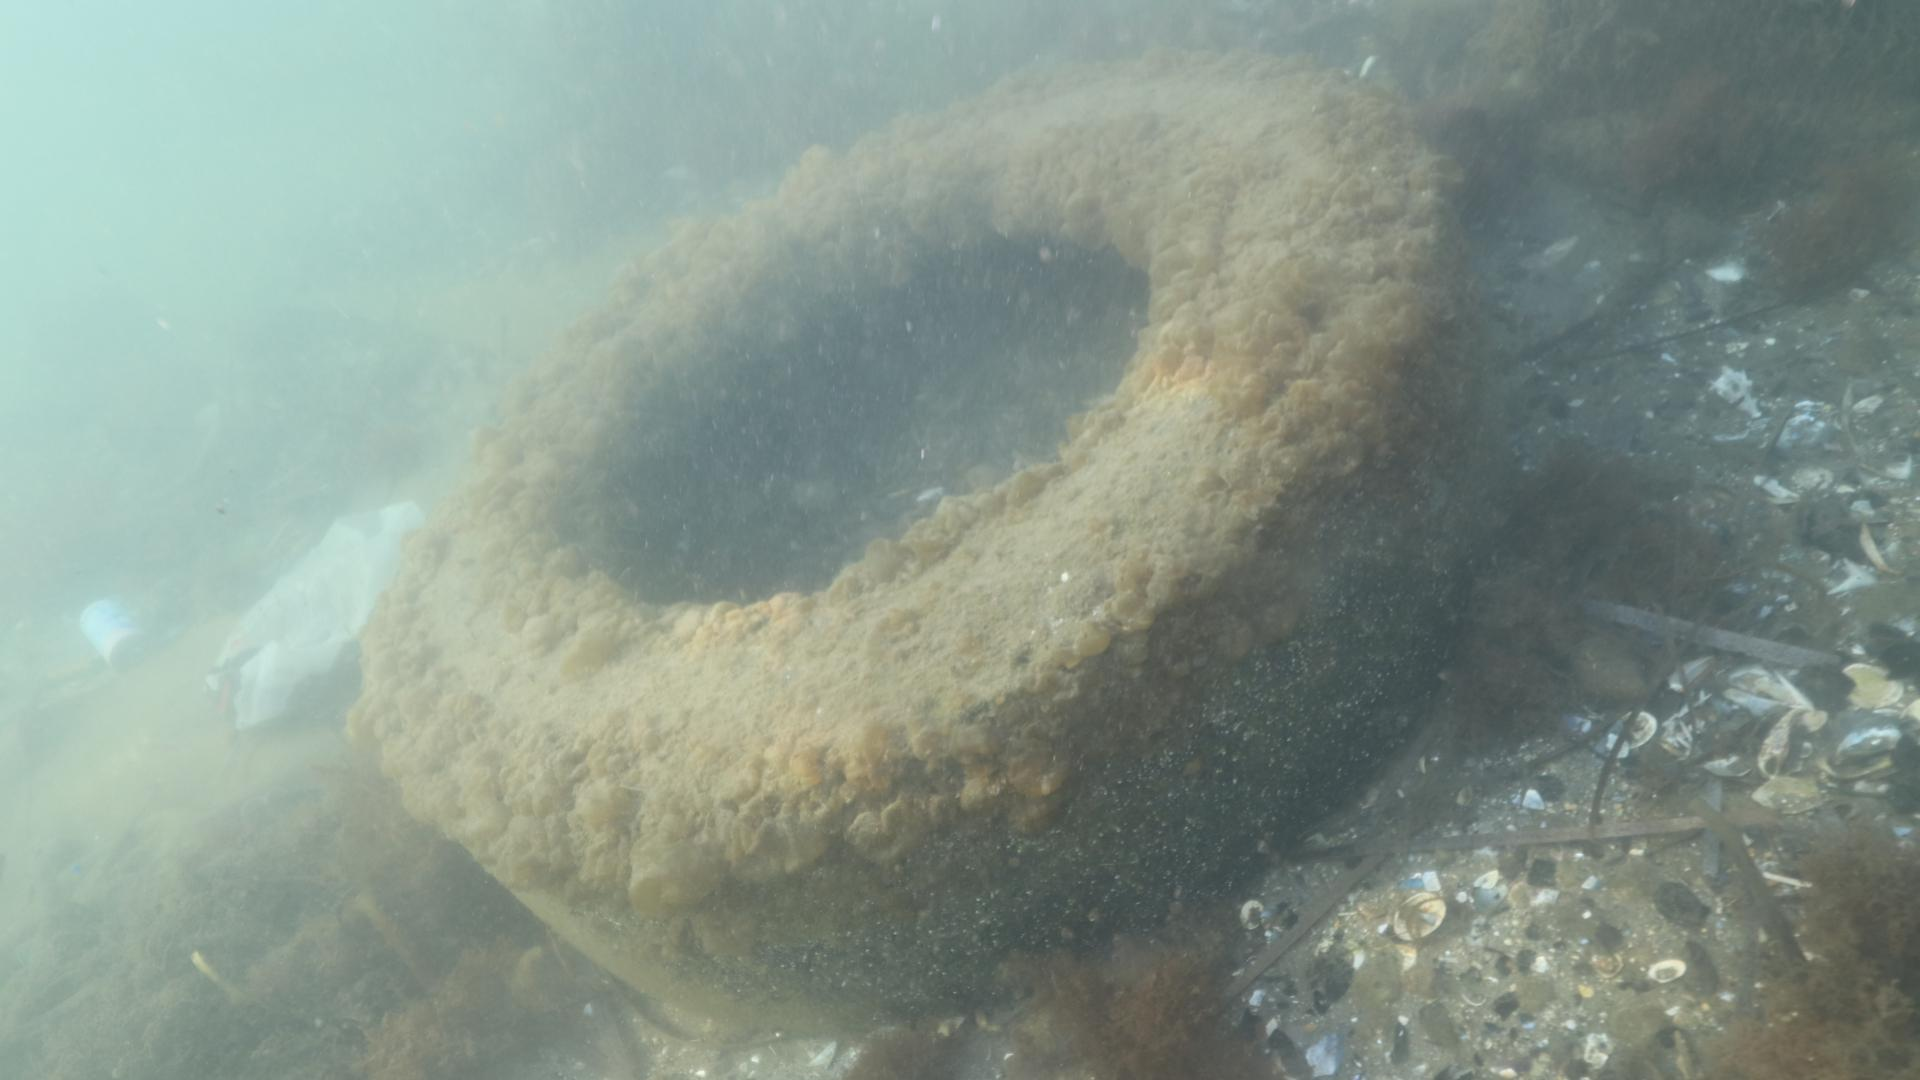tire: (353, 44, 1487, 1043)
